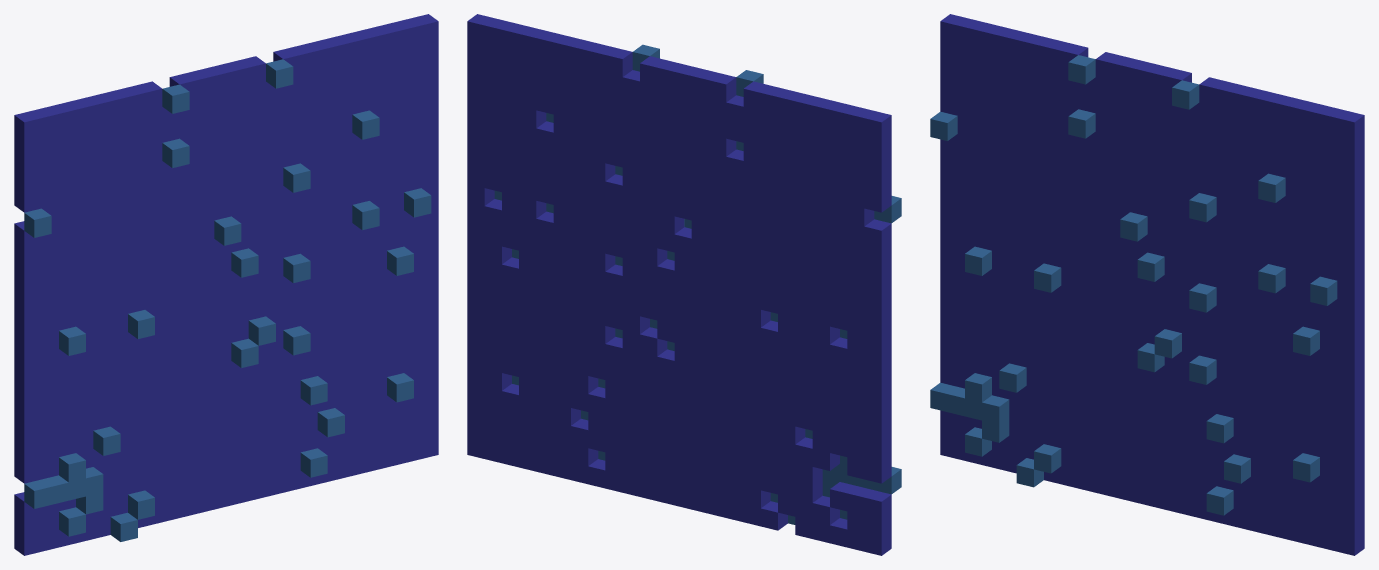
3 views of the same model, side by side, from view 1: azimuth 30°, elevation 25°; view 2: azimuth 150°, elevation 25°; view 3: azimuth 330°, elevation 25° (orthographic).
Size of the model in its own units: 2.4 by 2.4 by 0.2.
Materials: 1 (1 with a texture image).
